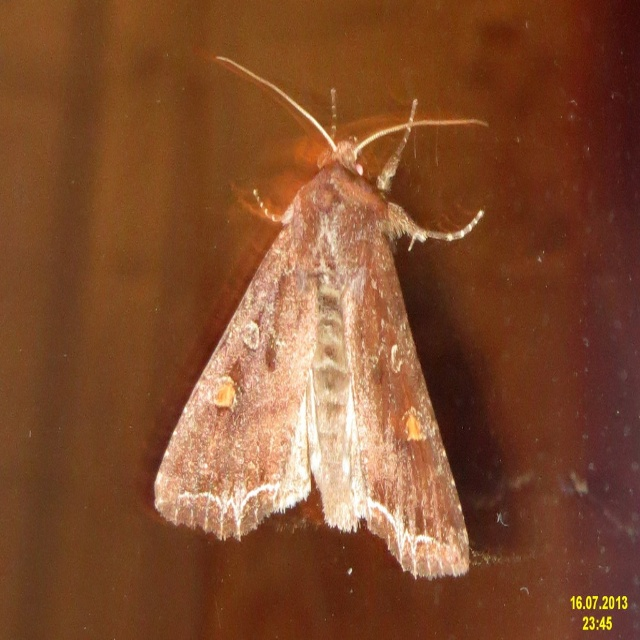Moths and butterflies: (152, 53, 484, 577)
